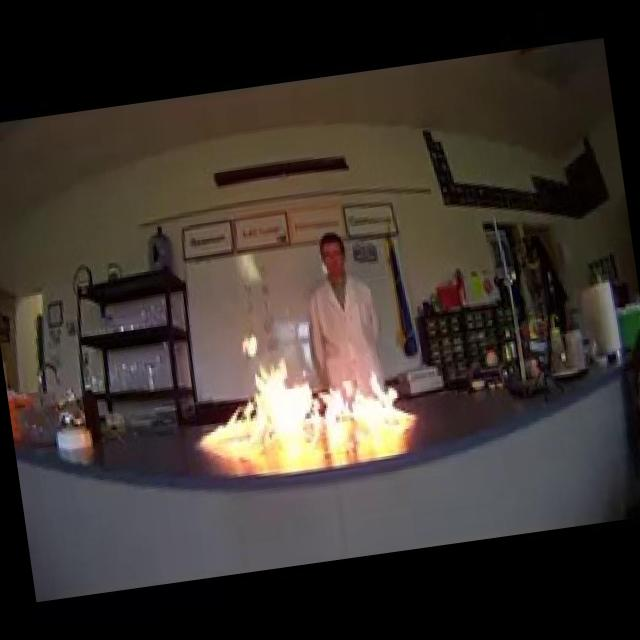Fire: (185, 336, 422, 456)
